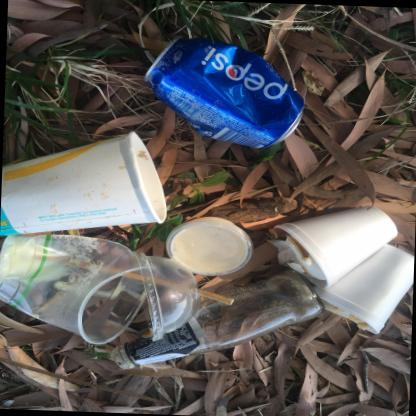Metal: (143, 35, 304, 148)
Paper: (0, 130, 166, 235), (120, 271, 233, 304)
Plastic: (111, 267, 324, 368), (0, 234, 146, 344), (133, 250, 199, 341), (165, 218, 252, 275)
Waste: (273, 204, 397, 288), (312, 243, 414, 333), (164, 216, 252, 275), (265, 232, 325, 279)
